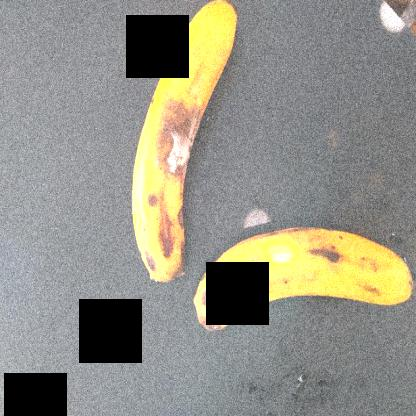overripe: (114, 0, 238, 300), (166, 218, 411, 357)
